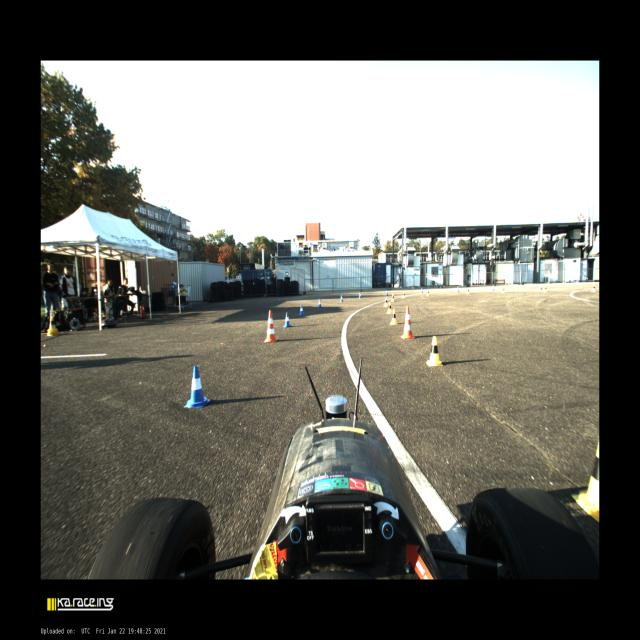blue_cone: (183, 365, 210, 408), (284, 312, 292, 327), (298, 304, 304, 316), (317, 298, 322, 308), (340, 294, 344, 302), (358, 292, 362, 298), (385, 290, 389, 296), (457, 286, 460, 292), (492, 286, 495, 291), (421, 288, 423, 294), (540, 284, 542, 290)
large_orange_cone: (400, 306, 415, 339), (264, 310, 277, 343)
yellow_cone: (571, 441, 599, 521), (426, 336, 443, 366), (390, 309, 397, 325), (387, 302, 392, 313), (591, 282, 596, 292), (384, 298, 388, 306), (390, 294, 394, 301), (402, 291, 406, 298), (466, 288, 470, 294), (544, 286, 547, 292), (502, 287, 505, 293), (426, 290, 429, 296)
